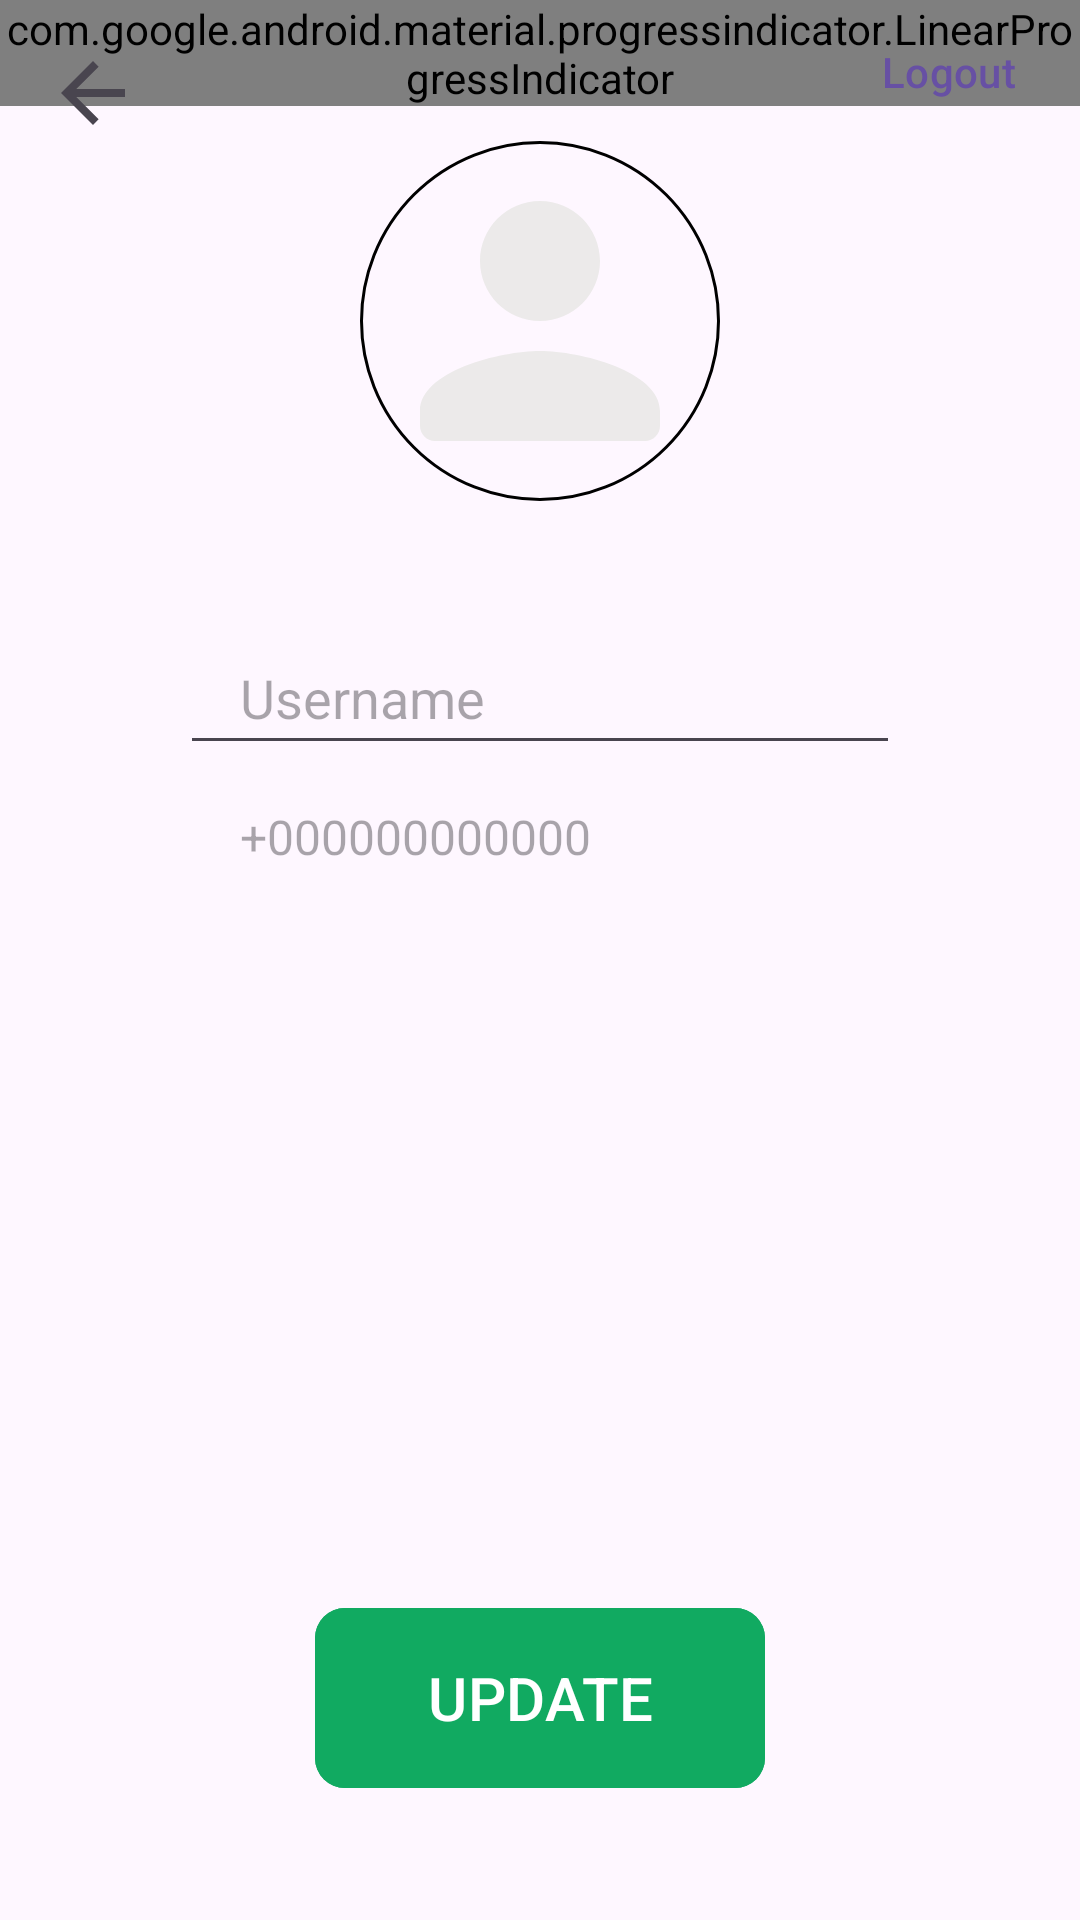

Point at icon controls on the screen. Image size 1080px×1920px, points as (x,y).
back arrow: (93,93)
person: (540,321)
